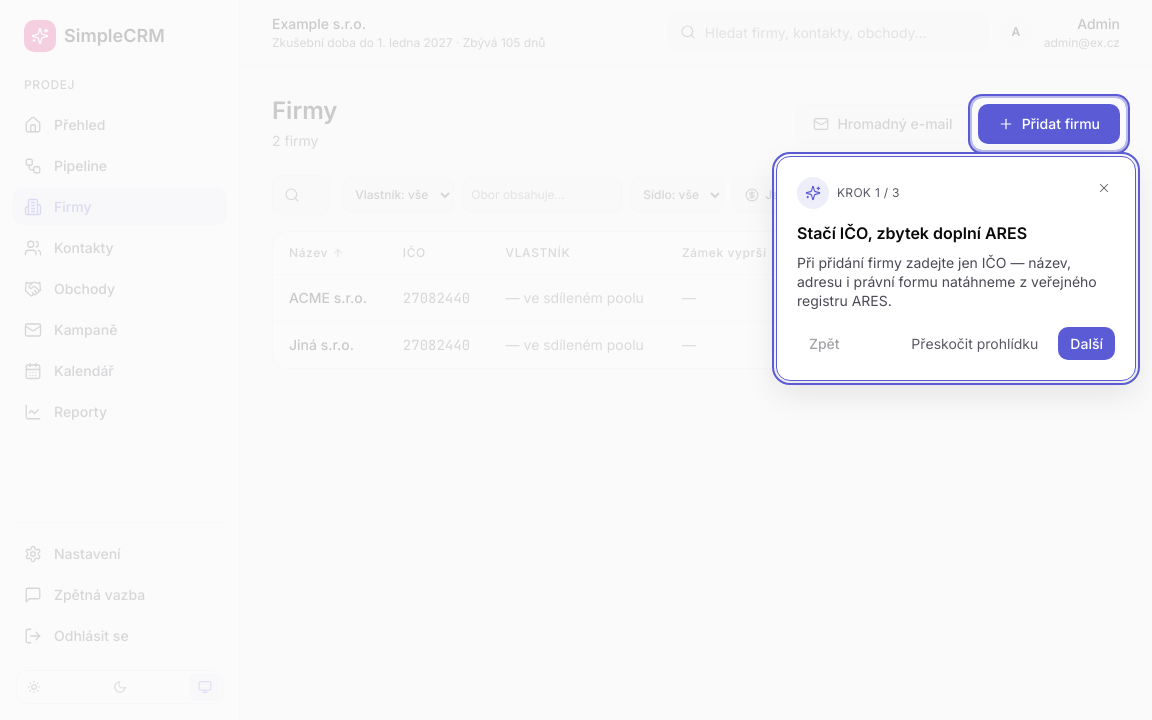
Test: Bulk email › picks companies on Firmy, then opens the wizard on exactly those, without filters
Note: Nothing floats until something is ticked.
Click the button "Hromadný e-mail" at [883, 124], box [796,104,970,144]
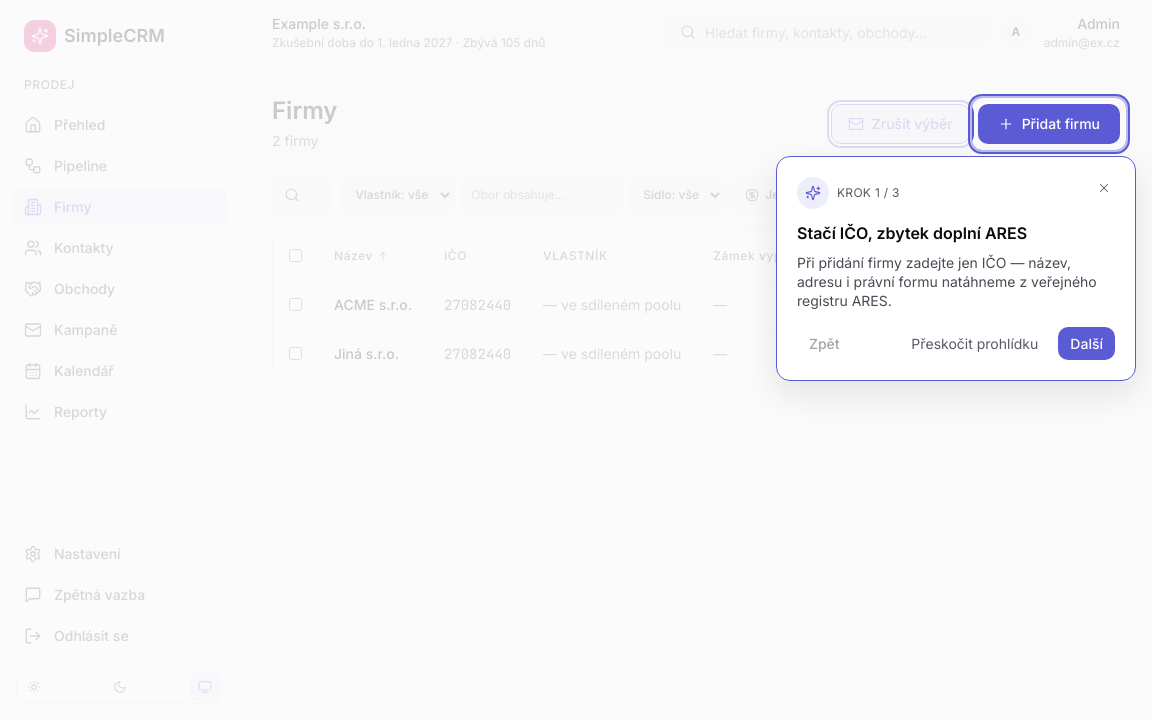
Click the checkbox named "Vybrat firmu ACME s.r.o." at [296, 304], box [289,298,302,311]
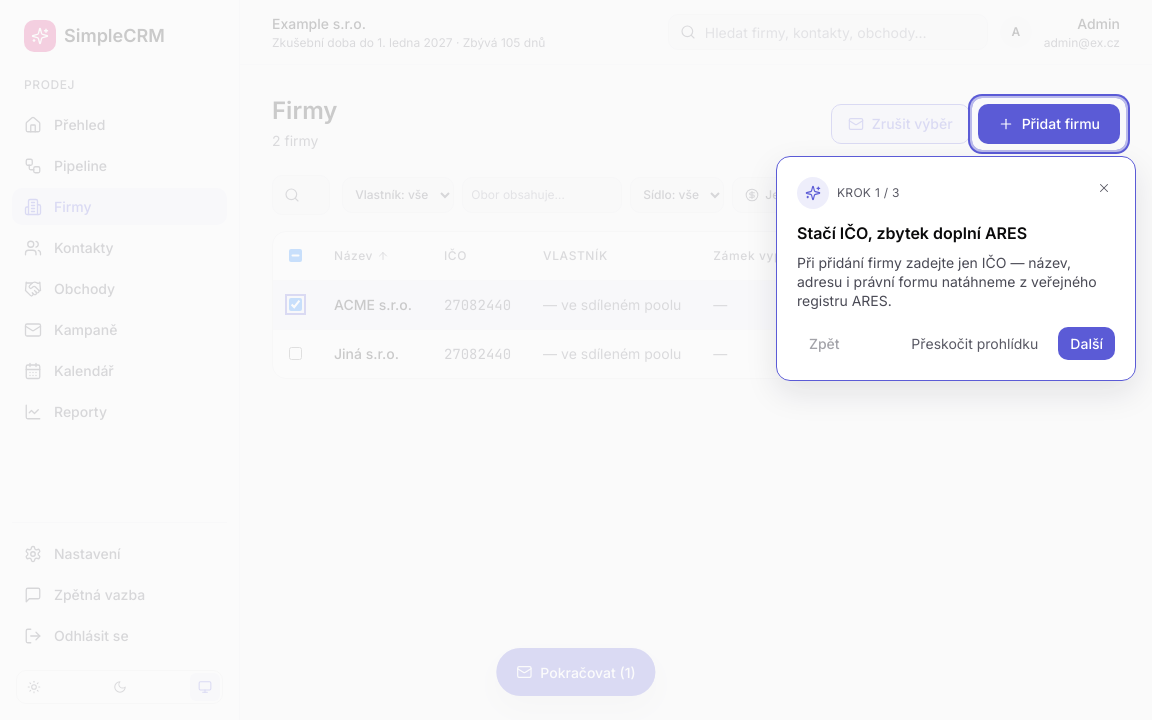
Click the button with test id "companies-bulk-continue" at [576, 672], box [496,648,656,696]
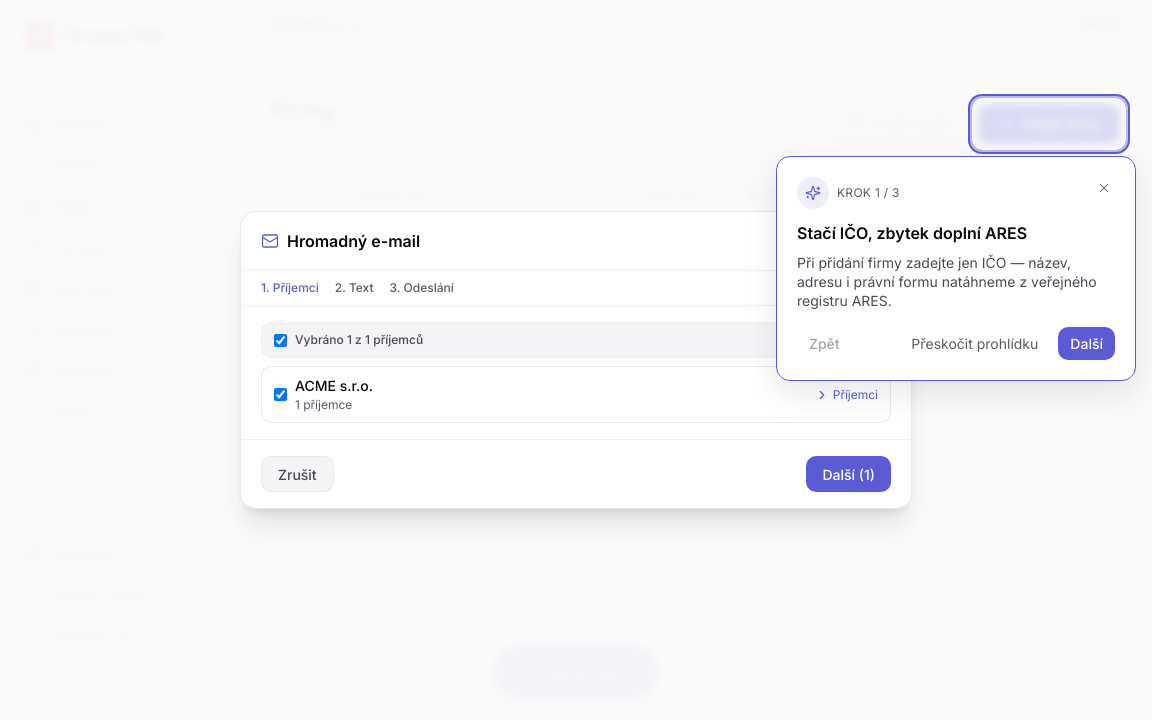
Result: the heading "Hromadný e-mail" is shown at [287,229,420,253]
Result: the button "Další (1)" is shown
Click the button "Další (1)" at [849, 474], box [806,456,891,492]
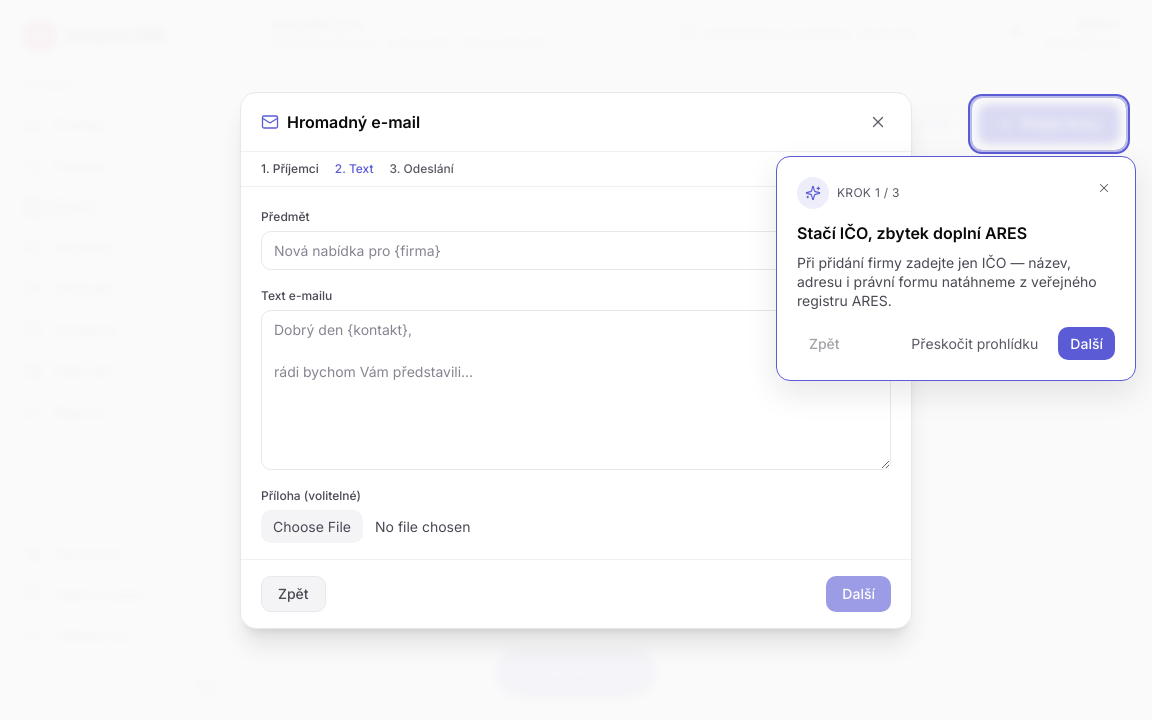
Result: the field with placeholder "Nová nabídka pro {firma}" is shown at [261,230,891,270]
